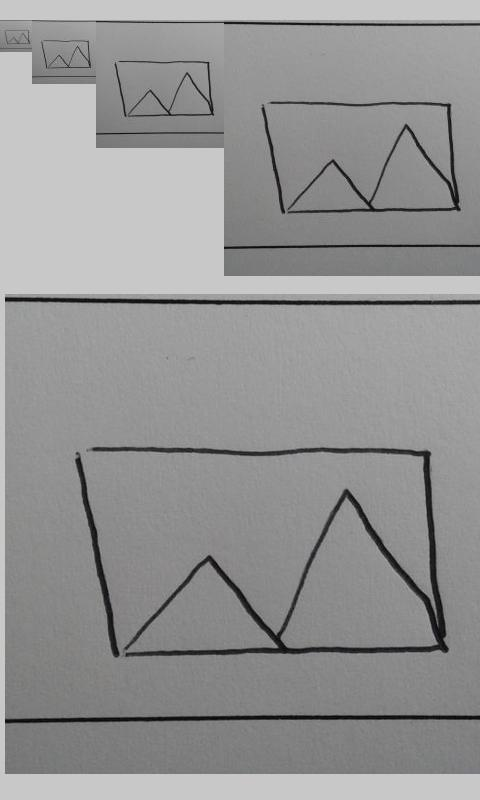image_view: (73, 446, 450, 664), (262, 97, 459, 217), (114, 60, 213, 118), (40, 39, 92, 70), (4, 29, 30, 45)
